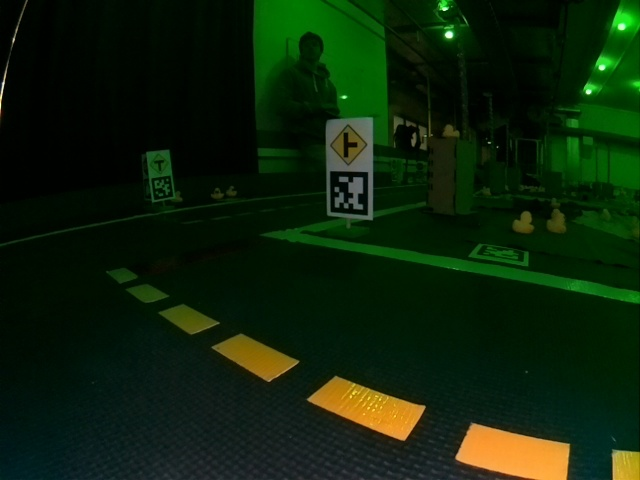Duckie: (514, 211, 534, 234), (548, 214, 566, 234), (211, 188, 222, 198), (228, 186, 237, 196), (175, 192, 183, 201)
Intersection sign: (328, 122, 369, 166), (150, 154, 170, 174)
QR code: (328, 170, 370, 217), (470, 243, 529, 266), (151, 177, 174, 200)
